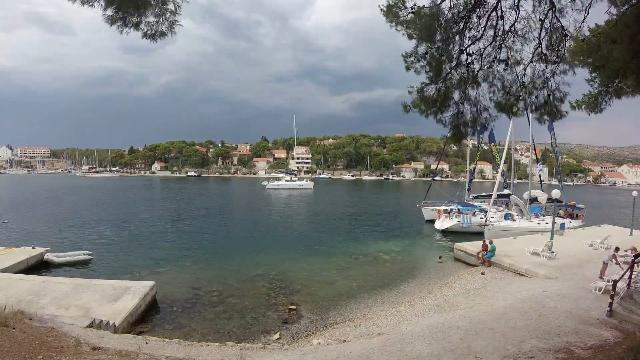Freighter: (76, 160, 124, 180)
Sailboat: (258, 166, 320, 192)
